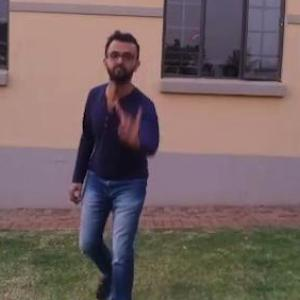takeoff-hand: (110, 94, 149, 151)
